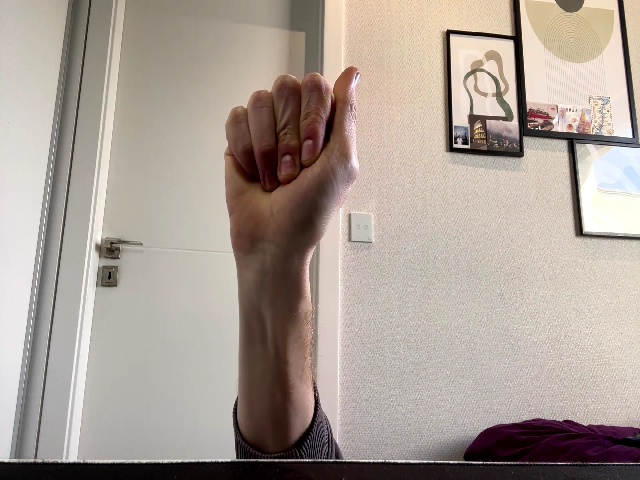A: (224, 66, 360, 254)
